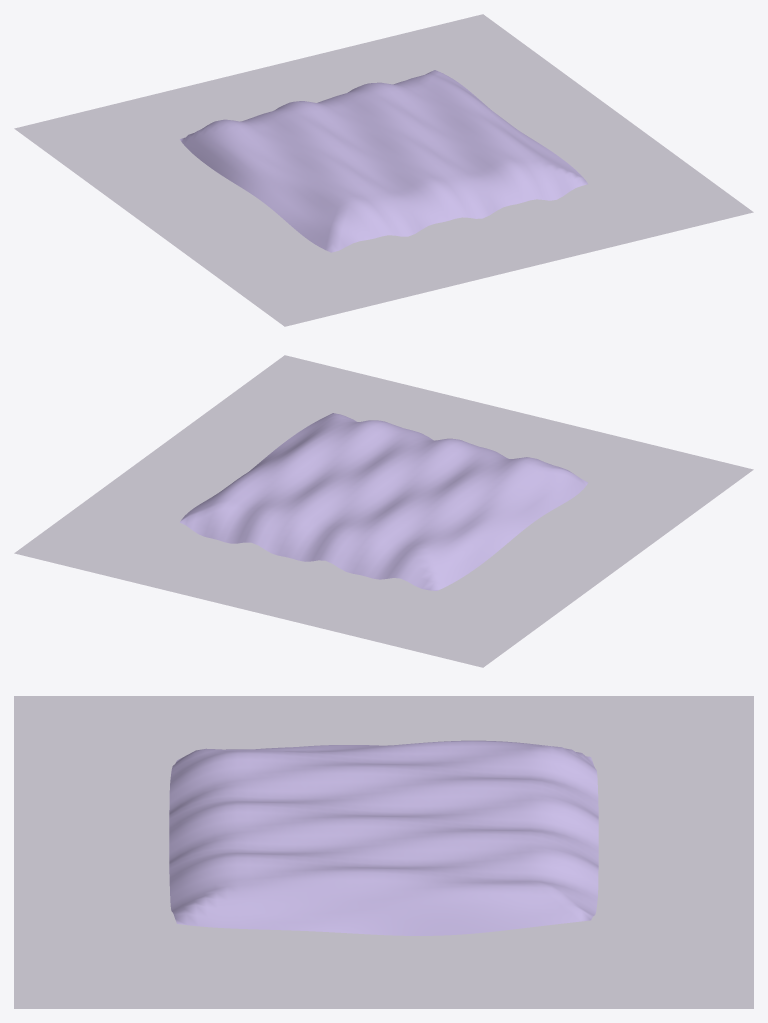
File: sheet.glb
The picture shows the model from 3 angles, top to bottom: view 1: azimuth 30°, elevation 25°; view 2: azimuth 150°, elevation 25°; view 3: azimuth 270°, elevation 25°; orthographic projection. The views are drawn at different scales.
Visible parts, largest first — view 1: background, a_side; view 2: background, a_side; view 3: background, a_side.
Boxes of the visible parts, left/top/right/bottom form: background: left=14, top=14, right=753, bottom=326; a_side: left=180, top=70, right=587, bottom=252; background: left=14, top=355, right=753, bottom=667; a_side: left=180, top=413, right=587, bottom=590; background: left=14, top=696, right=753, bottom=1008; a_side: left=169, top=740, right=598, bottom=935.
Size of the model in its own units: 5 by 0.3134 by 5.
